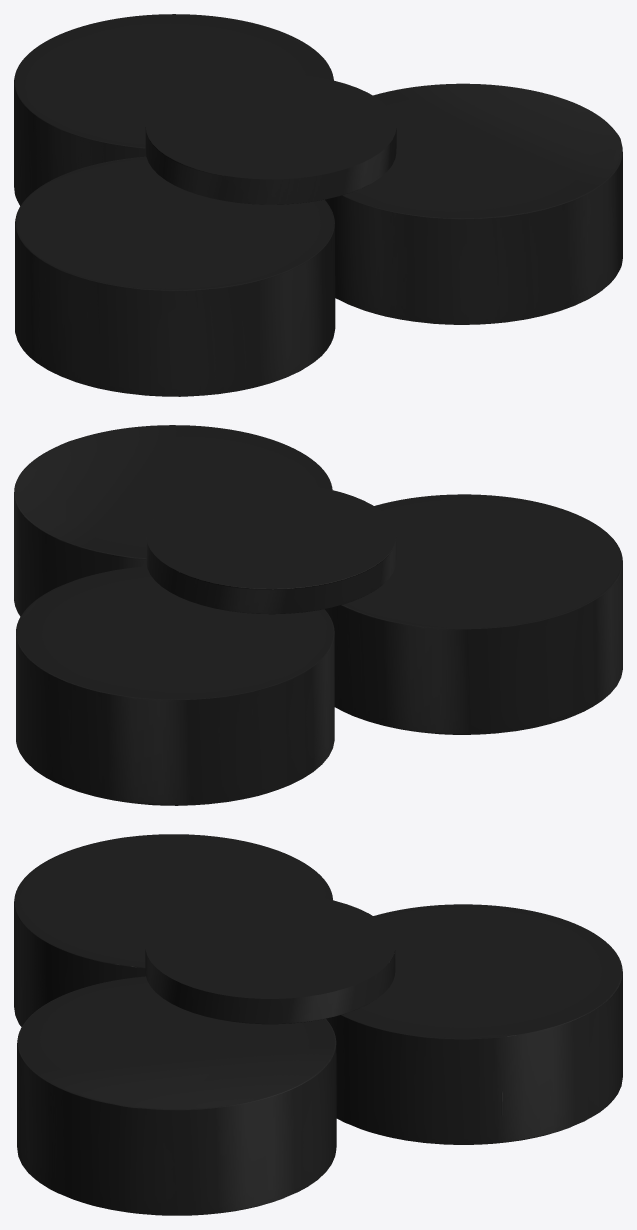
The model's file is raw_model.obj.
The picture shows the model from 3 angles, top to bottom: view 1: azimuth 30°, elevation 25°; view 2: azimuth 150°, elevation 25°; view 3: azimuth 270°, elevation 25°; orthographic projection.
Visible parts, largest first — view 1: solid_001; view 2: solid_001; view 3: solid_001.
Boxes of the visible parts, x1,y1,x2,y2 form: solid_001: (14, 14, 622, 396); solid_001: (14, 425, 622, 805); solid_001: (14, 834, 622, 1215).
Size of the model in its own units: 0.6161 by 0.1377 by 0.5746.
Materials: 1 (1 with a texture image).
